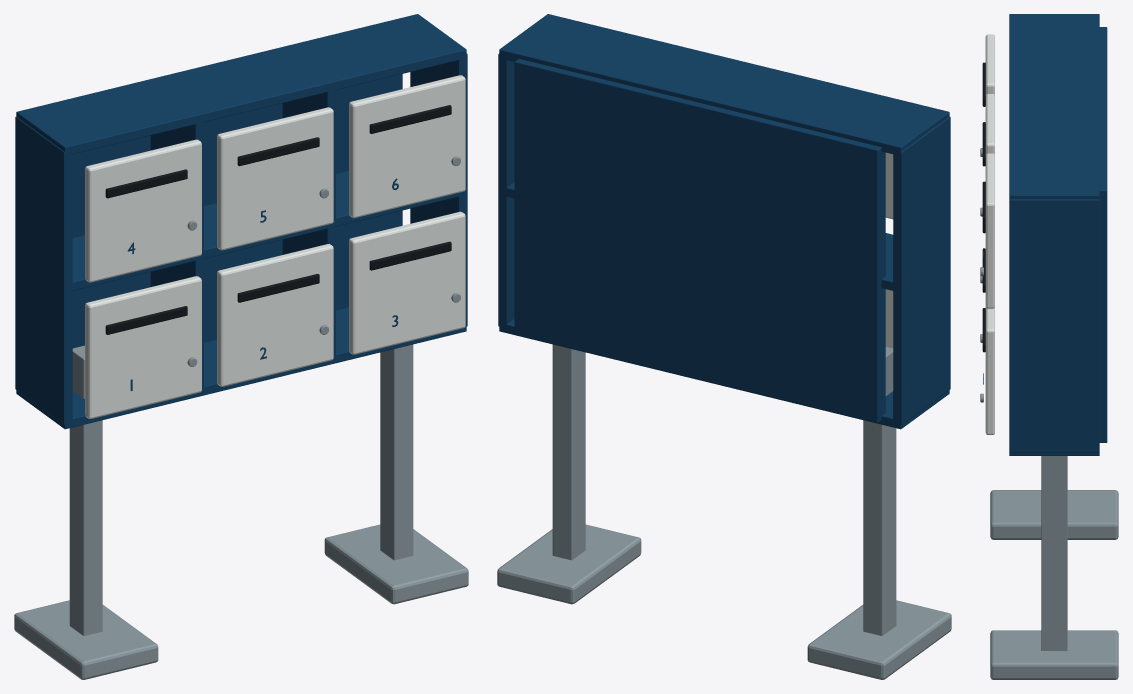
The model's file is edited.glb.
3 views of the same model, side by side, from view 1: azimuth 30°, elevation 25°; view 2: azimuth 150°, elevation 25°; view 3: azimuth 270°, elevation 25° (orthographic). The views are drawn at different scales.
Visible parts, largest first — view 1: BODY_Shelf, BODY_Divider.001, DOOR_Panel, DOOR_Panel.002, DOOR_Panel.001, DOOR_Panel.005, DOOR_Panel.004, DOOR_Panel.003, BODY_Back, STAND_Post, STAND_Post.001, FOOT (+12 smaller); view 2: BODY_Back, BODY_Shelf, BODY_Divider.001, STAND_Post, STAND_Post.001, FOOT, FOOT.001, BODY_Divider, BODY_Shelf.001, BODY_Shelf.002; view 3: BODY_Divider, BODY_Shelf, FOOT.001, STAND_Post.001, FOOT, BODY_Back, DOOR_Panel.005, DOOR_Panel.002, DOOR_Panel.004, DOOR_Panel.003, BODY_Shelf.001.
Part boxes in pixels (x1=…): BODY_Shelf: x1=16, y1=14, x2=466, y2=154; BODY_Divider.001: x1=15, y1=116, x2=72, y2=424; DOOR_Panel: x1=85, y1=276, x2=201, y2=418; DOOR_Panel.002: x1=349, y1=211, x2=465, y2=354; DOOR_Panel.001: x1=217, y1=244, x2=333, y2=386; DOOR_Panel.005: x1=349, y1=75, x2=465, y2=218; DOOR_Panel.004: x1=217, y1=107, x2=333, y2=250; DOOR_Panel.003: x1=85, y1=139, x2=201, y2=282; BODY_Back: x1=72, y1=74, x2=402, y2=348; STAND_Post: x1=69, y1=345, x2=102, y2=635; STAND_Post.001: x1=380, y1=344, x2=413, y2=560; FOOT: x1=14, y1=600, x2=158, y2=679; BODY_Back: x1=514, y1=59, x2=885, y2=422; BODY_Shelf: x1=499, y1=14, x2=949, y2=154; BODY_Divider.001: x1=893, y1=116, x2=950, y2=424; STAND_Post: x1=863, y1=346, x2=896, y2=635; STAND_Post.001: x1=552, y1=344, x2=585, y2=560; FOOT: x1=807, y1=600, x2=951, y2=679; FOOT.001: x1=497, y1=524, x2=641, y2=604; BODY_Divider: x1=498, y1=53, x2=514, y2=327; BODY_Shelf.001: x1=499, y1=319, x2=949, y2=429; BODY_Shelf.002: x1=499, y1=182, x2=895, y2=290; BODY_Divider: x1=1009, y1=199, x2=1099, y2=452; BODY_Shelf: x1=1009, y1=14, x2=1099, y2=199; FOOT.001: x1=990, y1=630, x2=1118, y2=679; STAND_Post.001: x1=1041, y1=456, x2=1067, y2=650; FOOT: x1=990, y1=490, x2=1118, y2=539; BODY_Back: x1=1099, y1=27, x2=1107, y2=442; DOOR_Panel.005: x1=985, y1=153, x2=994, y2=308; DOOR_Panel.002: x1=985, y1=307, x2=994, y2=434; DOOR_Panel.004: x1=985, y1=94, x2=994, y2=154; DOOR_Panel.003: x1=985, y1=34, x2=994, y2=95; BODY_Shelf.001: x1=1009, y1=452, x2=1099, y2=455.
Bounding box in the file's own units: 1.15 × 1.43 × 0.3665.
